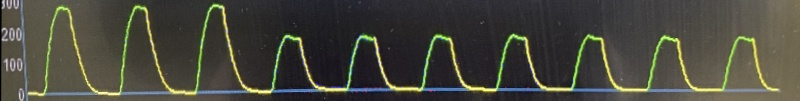normal_volume: (21, 5, 787, 101)
